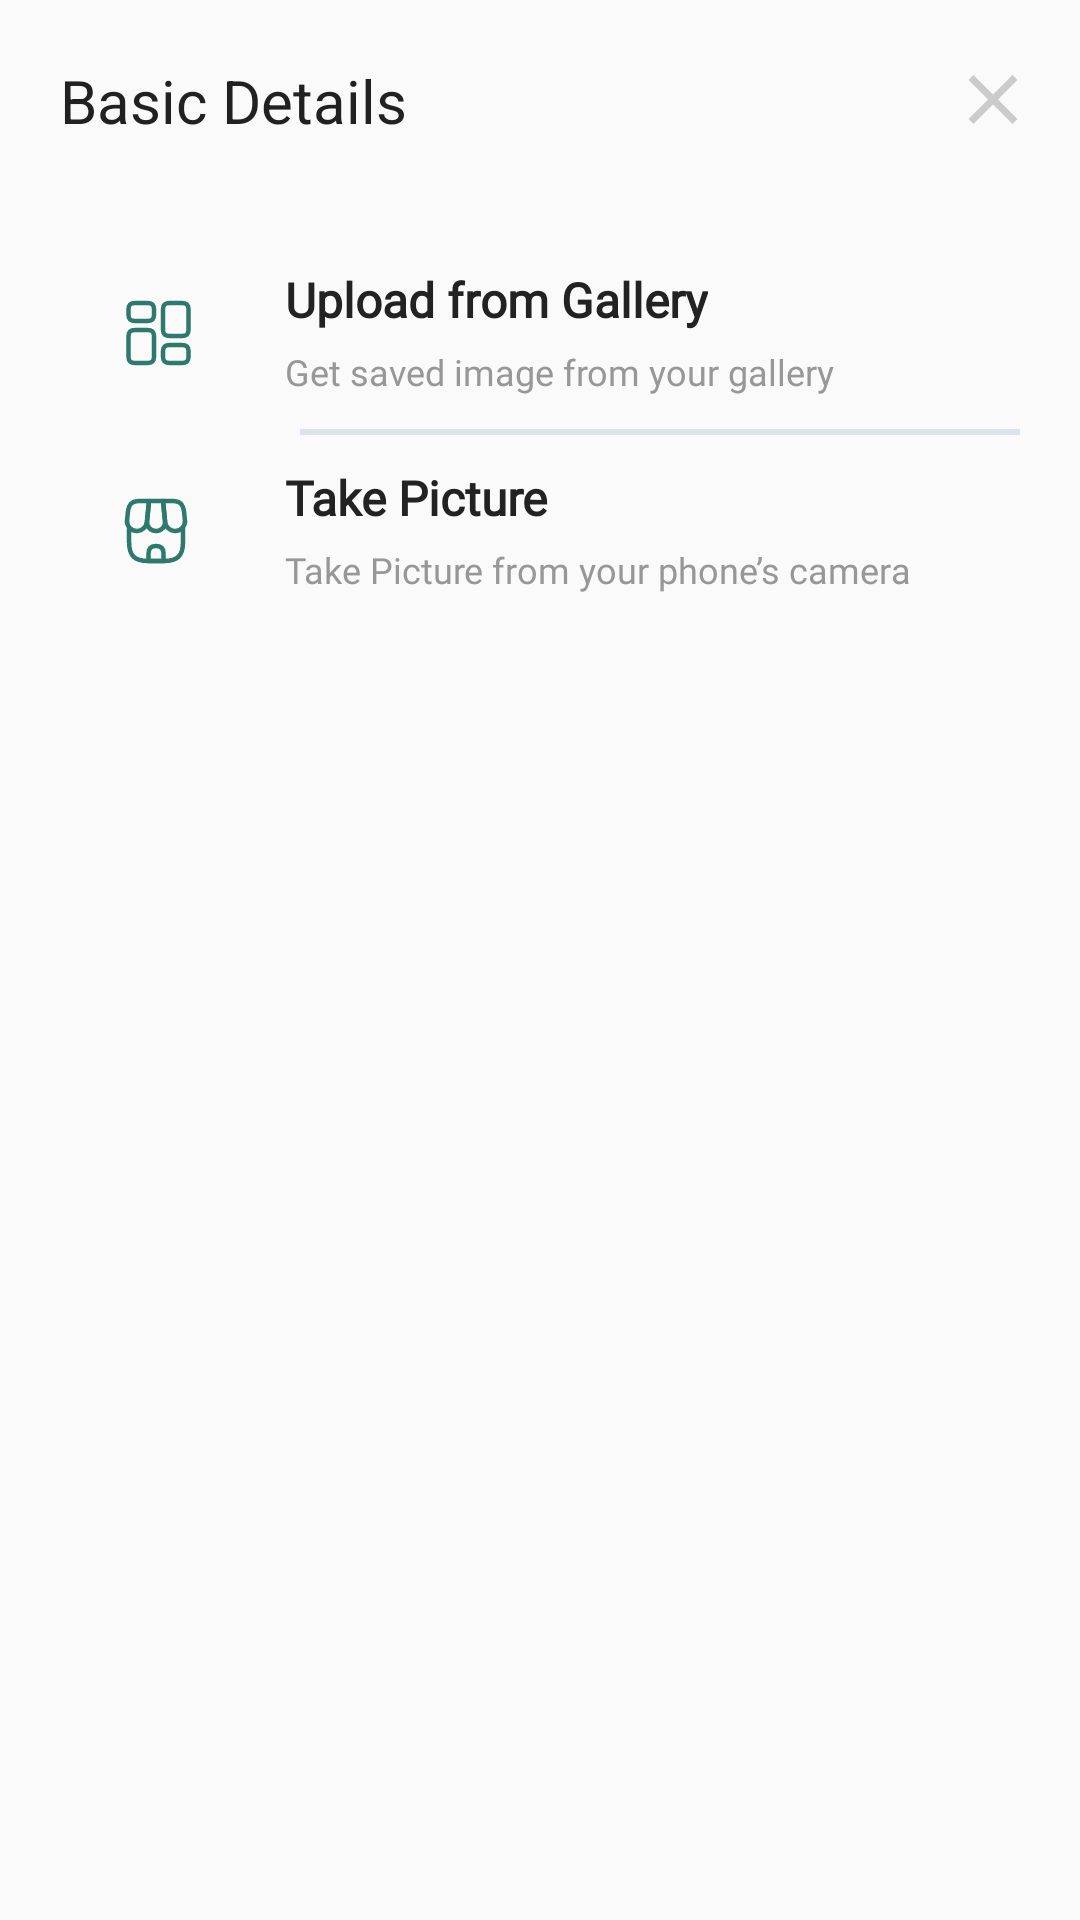

Where icons sit on this 1080 x 1920 app screen, as (x1, y1, x2, y2):
cross: (969, 75, 1017, 124)
shop: (124, 498, 188, 564)
